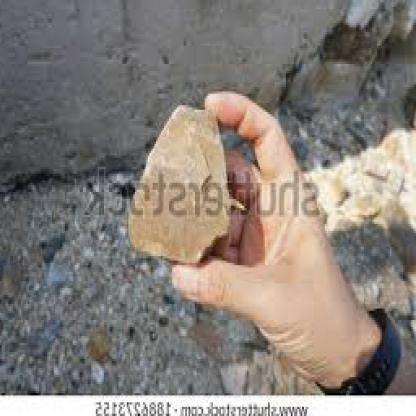Metamorphic_Quartize: (124, 96, 232, 267)
